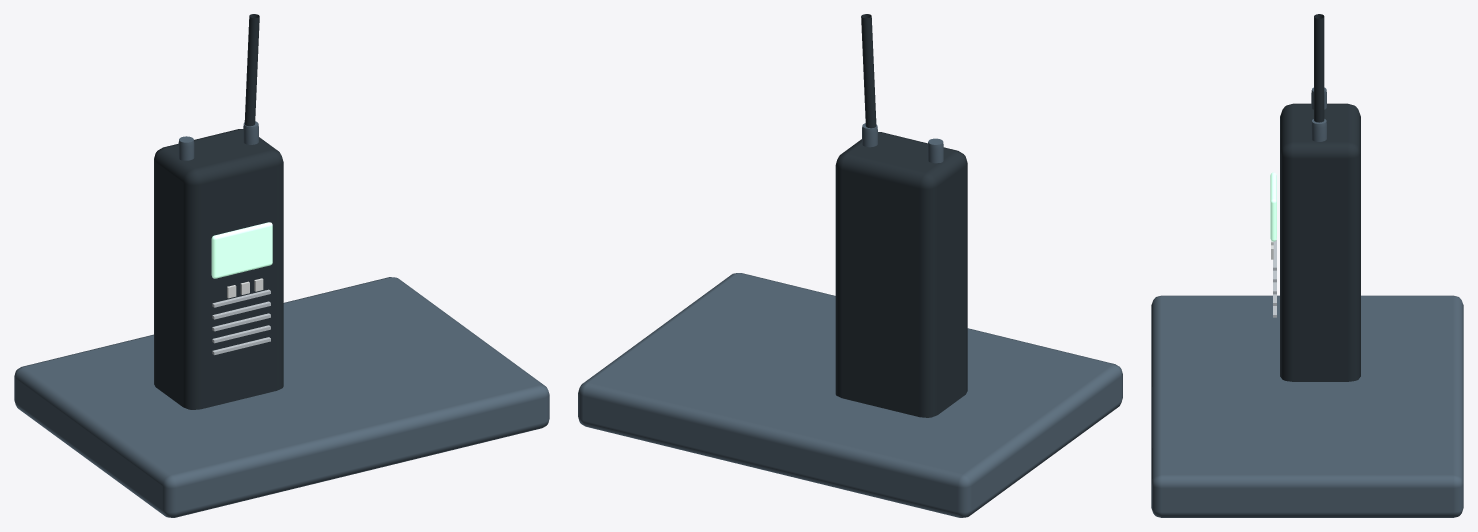
The model's file is fire-handover.glb.
3 views of the same model, side by side, from view 1: azimuth 30°, elevation 25°; view 2: azimuth 150°, elevation 25°; view 3: azimuth 270°, elevation 25° (orthographic). The views are drawn at different scales.
Visible parts, largest first — view 1: fire-handover; view 2: fire-handover; view 3: fire-handover.
Boxes of the visible parts, x1,y1,x2,y2 form: fire-handover: (14, 14, 549, 517); fire-handover: (578, 14, 1122, 517); fire-handover: (1151, 14, 1463, 517).
Size of the model in its own units: 0.34 by 0.3402 by 0.24.
